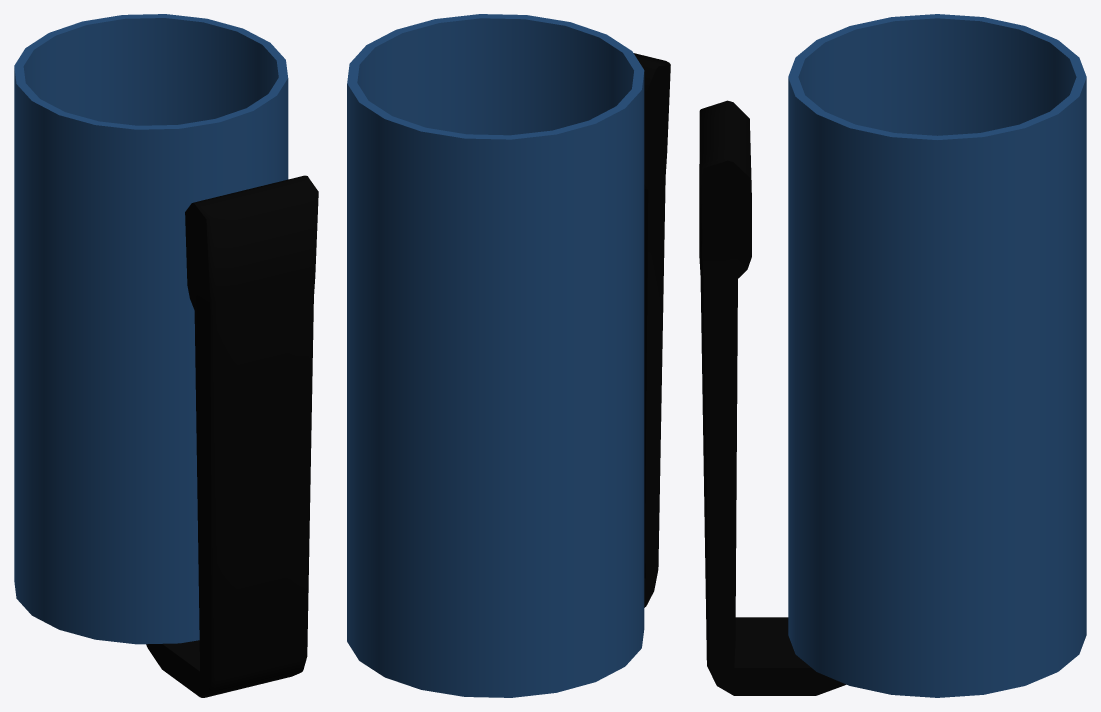
File: Pen_1_Cap_Blue.FBX
The picture shows the model from 3 angles, left to right: view 1: azimuth 30°, elevation 25°; view 2: azimuth 150°, elevation 25°; view 3: azimuth 270°, elevation 25°; orthographic projection. The views are drawn at different scales.
Visible parts, largest first — view 1: Cylinder051; view 2: Cylinder051; view 3: Cylinder051.
Part boxes in pixels (x1,y1,x2,y2): Cylinder051: (14, 14, 318, 697); Cylinder051: (347, 14, 670, 697); Cylinder051: (699, 14, 1086, 697).
Size of the model in its own units: 59.22 by 130 by 76.85.
